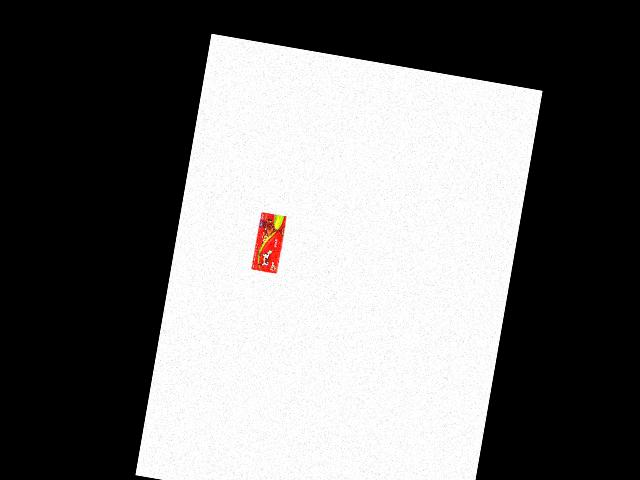chocolate: (245, 210, 288, 278)
